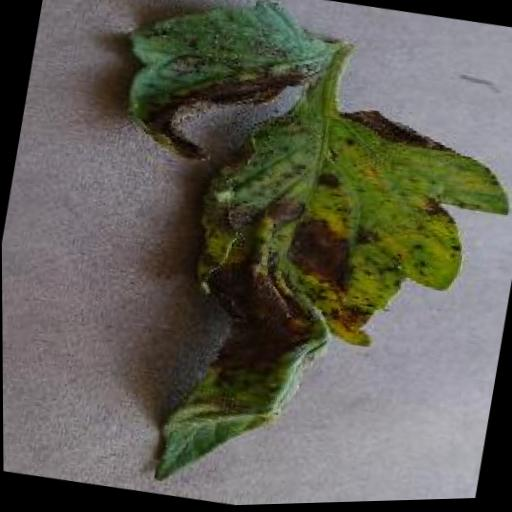Early Blight: (48, 0, 512, 511)
